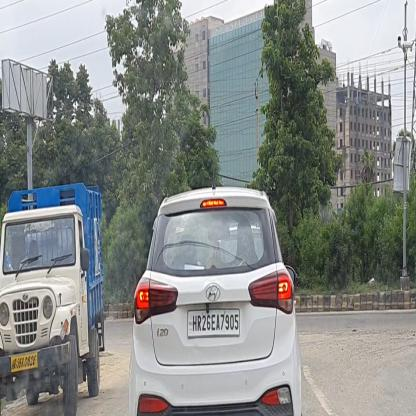car: (130, 184, 301, 416)
truck: (0, 187, 104, 414)
